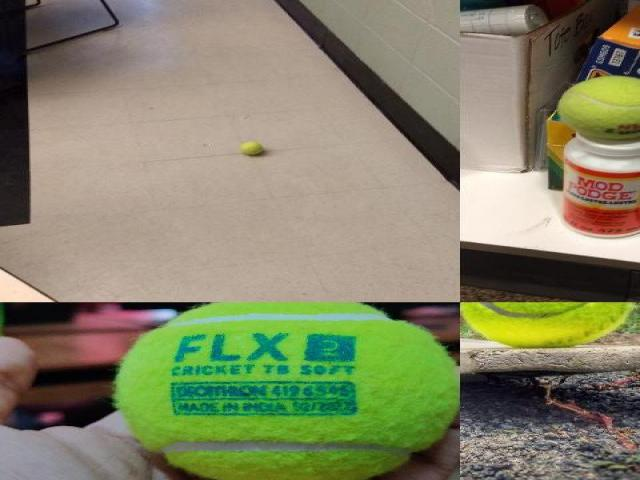tennis-ball: (113, 302, 459, 480), (460, 302, 635, 346), (556, 74, 639, 140), (238, 141, 262, 155)
